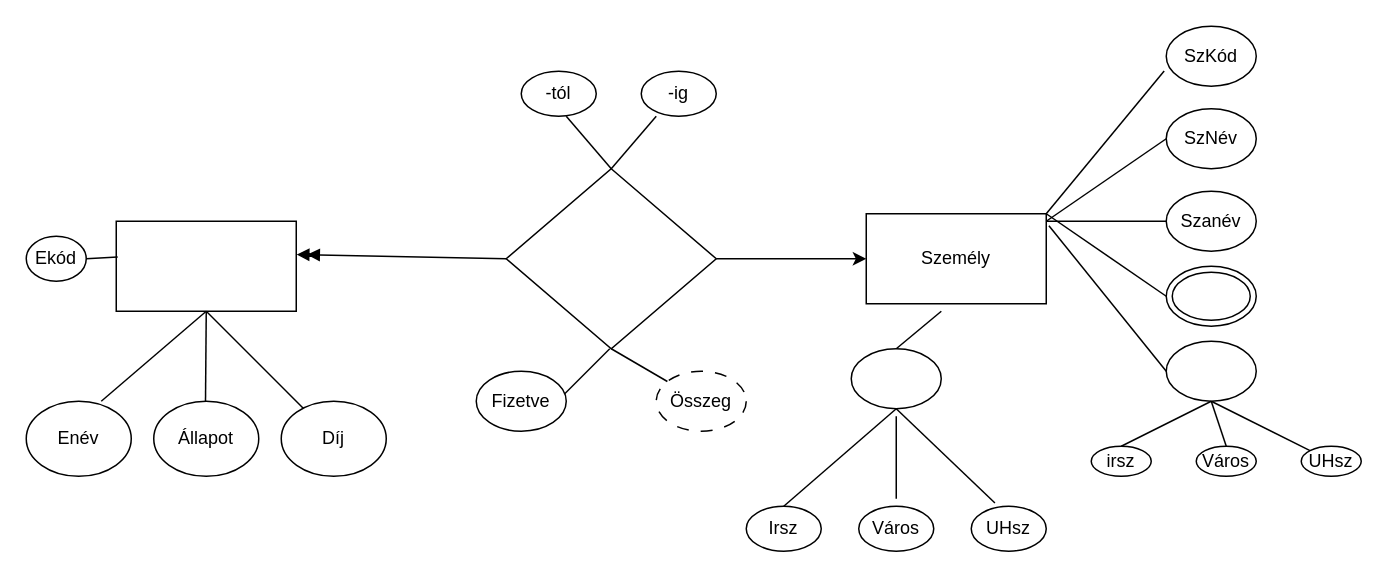
The diagram is 1388 pixels wide and 578 high, and some of its shapes have lost their labels. The centre of each missing label's shape, as x and y in pixels:
Eszköz: pixel 205 265
Kölcsönző: pixel 610 258
SzaCím: pixel 895 378
Szlakcím: pixel 1210 370
Tszám: pixel 1210 295
